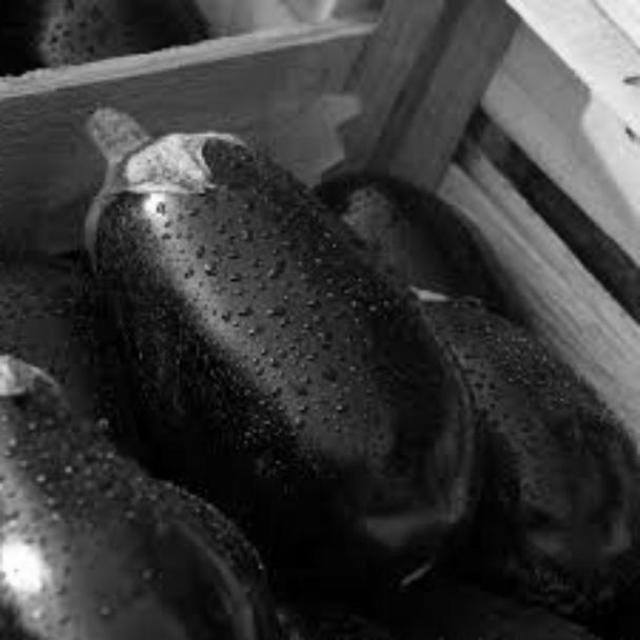eggplant: (112, 75, 459, 598), (385, 238, 640, 624), (0, 332, 227, 639)
